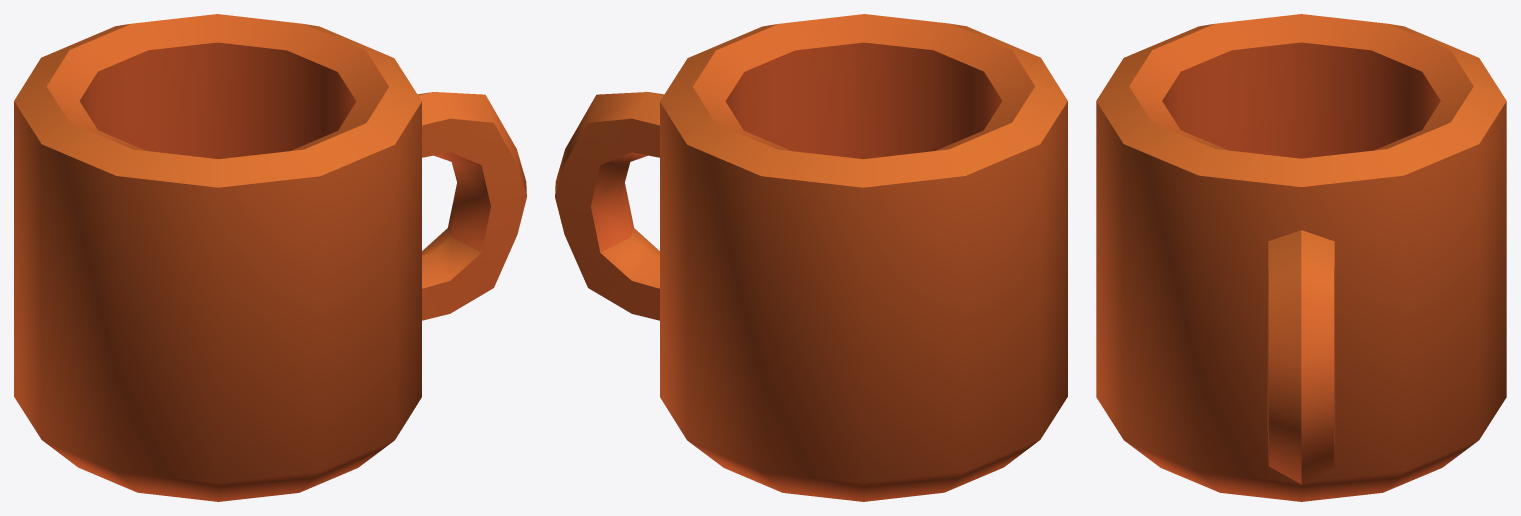
The model's file is Red Mug.glb.
3 views of the same model, side by side, from view 1: azimuth 30°, elevation 25°; view 2: azimuth 150°, elevation 25°; view 3: azimuth 270°, elevation 25° (orthographic).
Visible parts, largest first — view 1: mug_red; view 2: mug_red; view 3: mug_red.
Part boxes in pixels (x1,y1,x2,y2): mug_red: (14, 14, 526, 501); mug_red: (555, 14, 1067, 501); mug_red: (1096, 14, 1506, 501).
Bounding box in the file's own units: 0.5119 × 0.35 × 0.375.
Materials: 1 (1 with a texture image).
